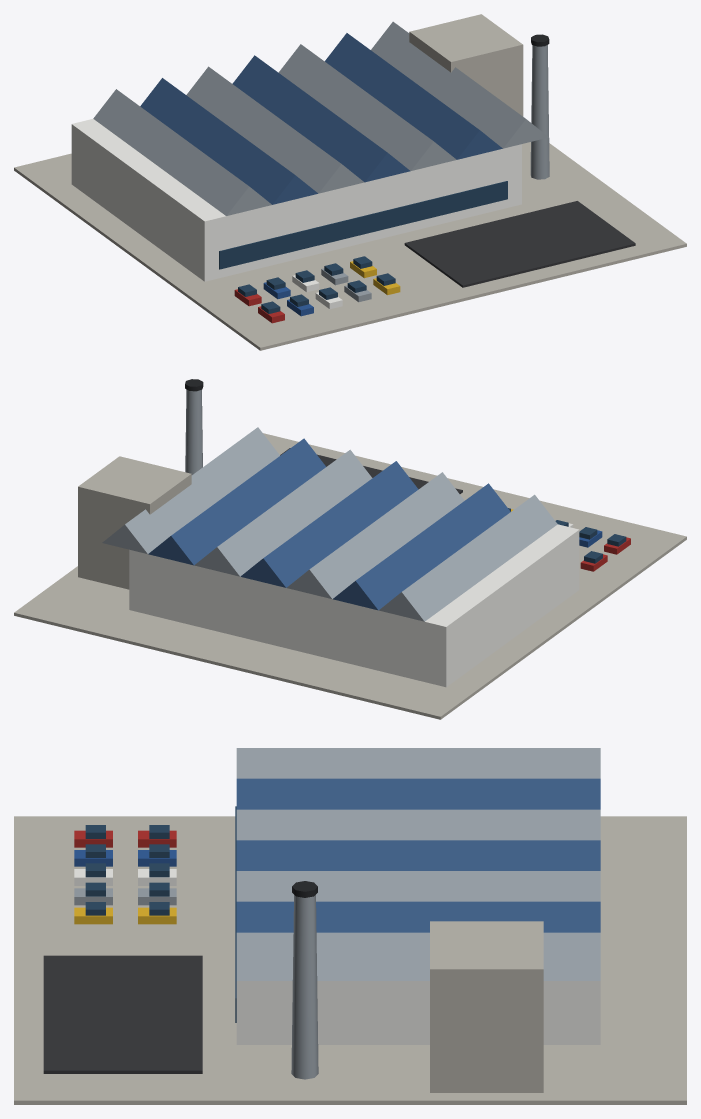
The model's file is building_kilang_kereta.glb.
3 views of the same model, one above another, from view 1: azimuth 30°, elevation 25°; view 2: azimuth 150°, elevation 25°; view 3: azimuth 270°, elevation 25° (orthographic). The views are drawn at different scales.
Visible parts, largest first — view 1: building_kilang_kereta; view 2: building_kilang_kereta; view 3: building_kilang_kereta.
Boxes of the visible parts, bbox=[...] form: building_kilang_kereta: bbox=[14, 14, 686, 350]; building_kilang_kereta: bbox=[14, 379, 686, 719]; building_kilang_kereta: bbox=[14, 748, 686, 1104].
Bounding box in the file's own units: 2.96 × 0.93 × 2.96.
